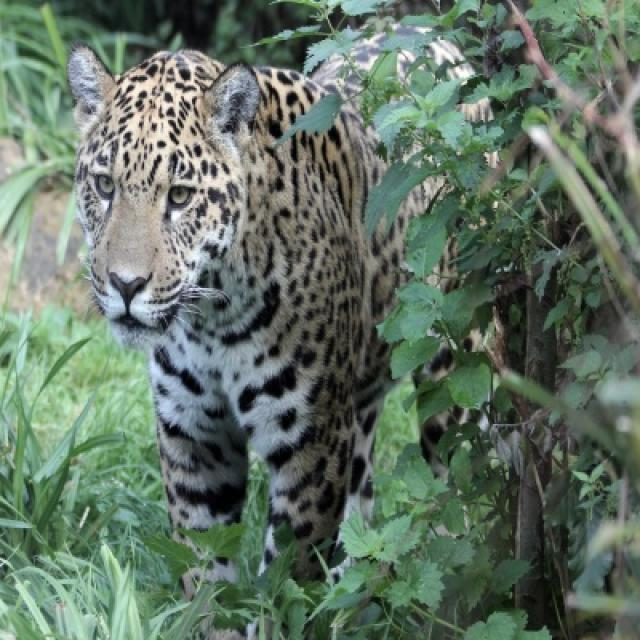Jaguar: (64, 45, 394, 587)
